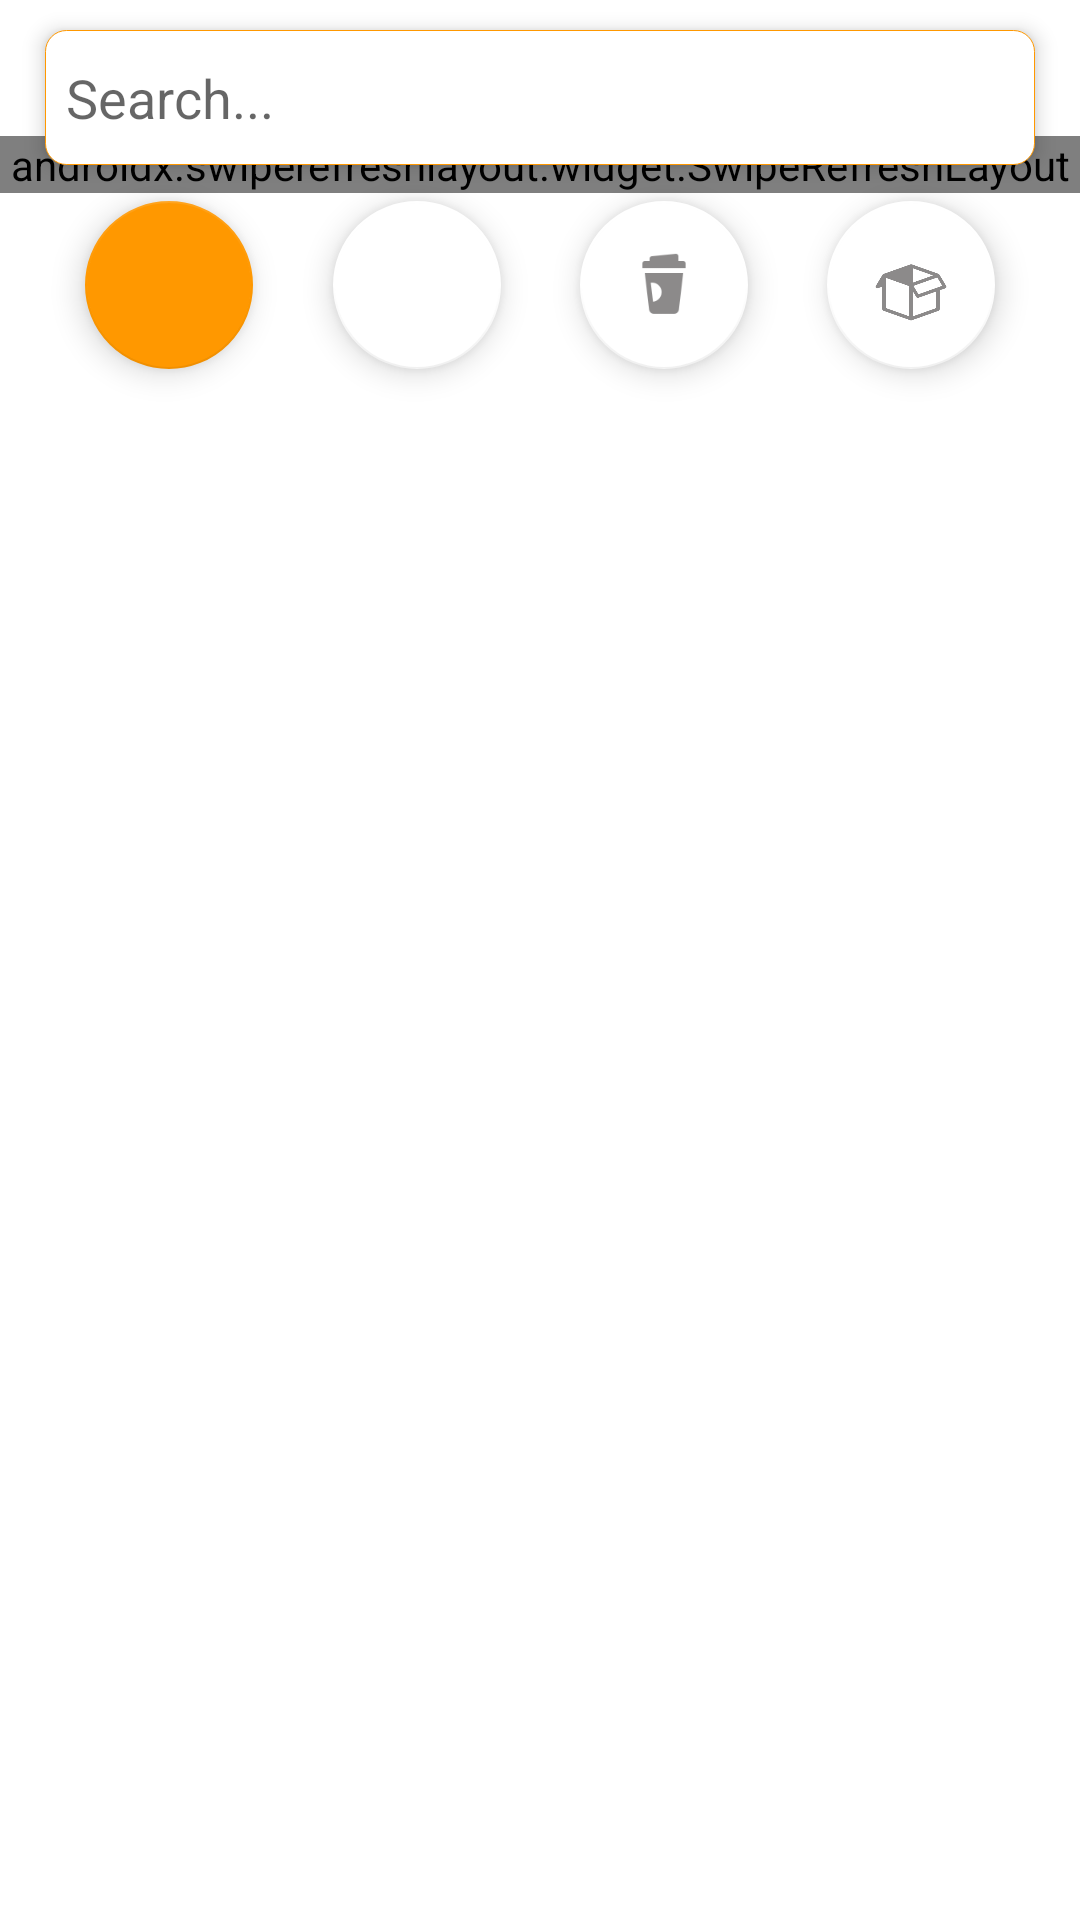

Icon click points for this 1080*1920 phone screenshot, format point (x, y):
box: point (935, 302)
drink: point (679, 311)
